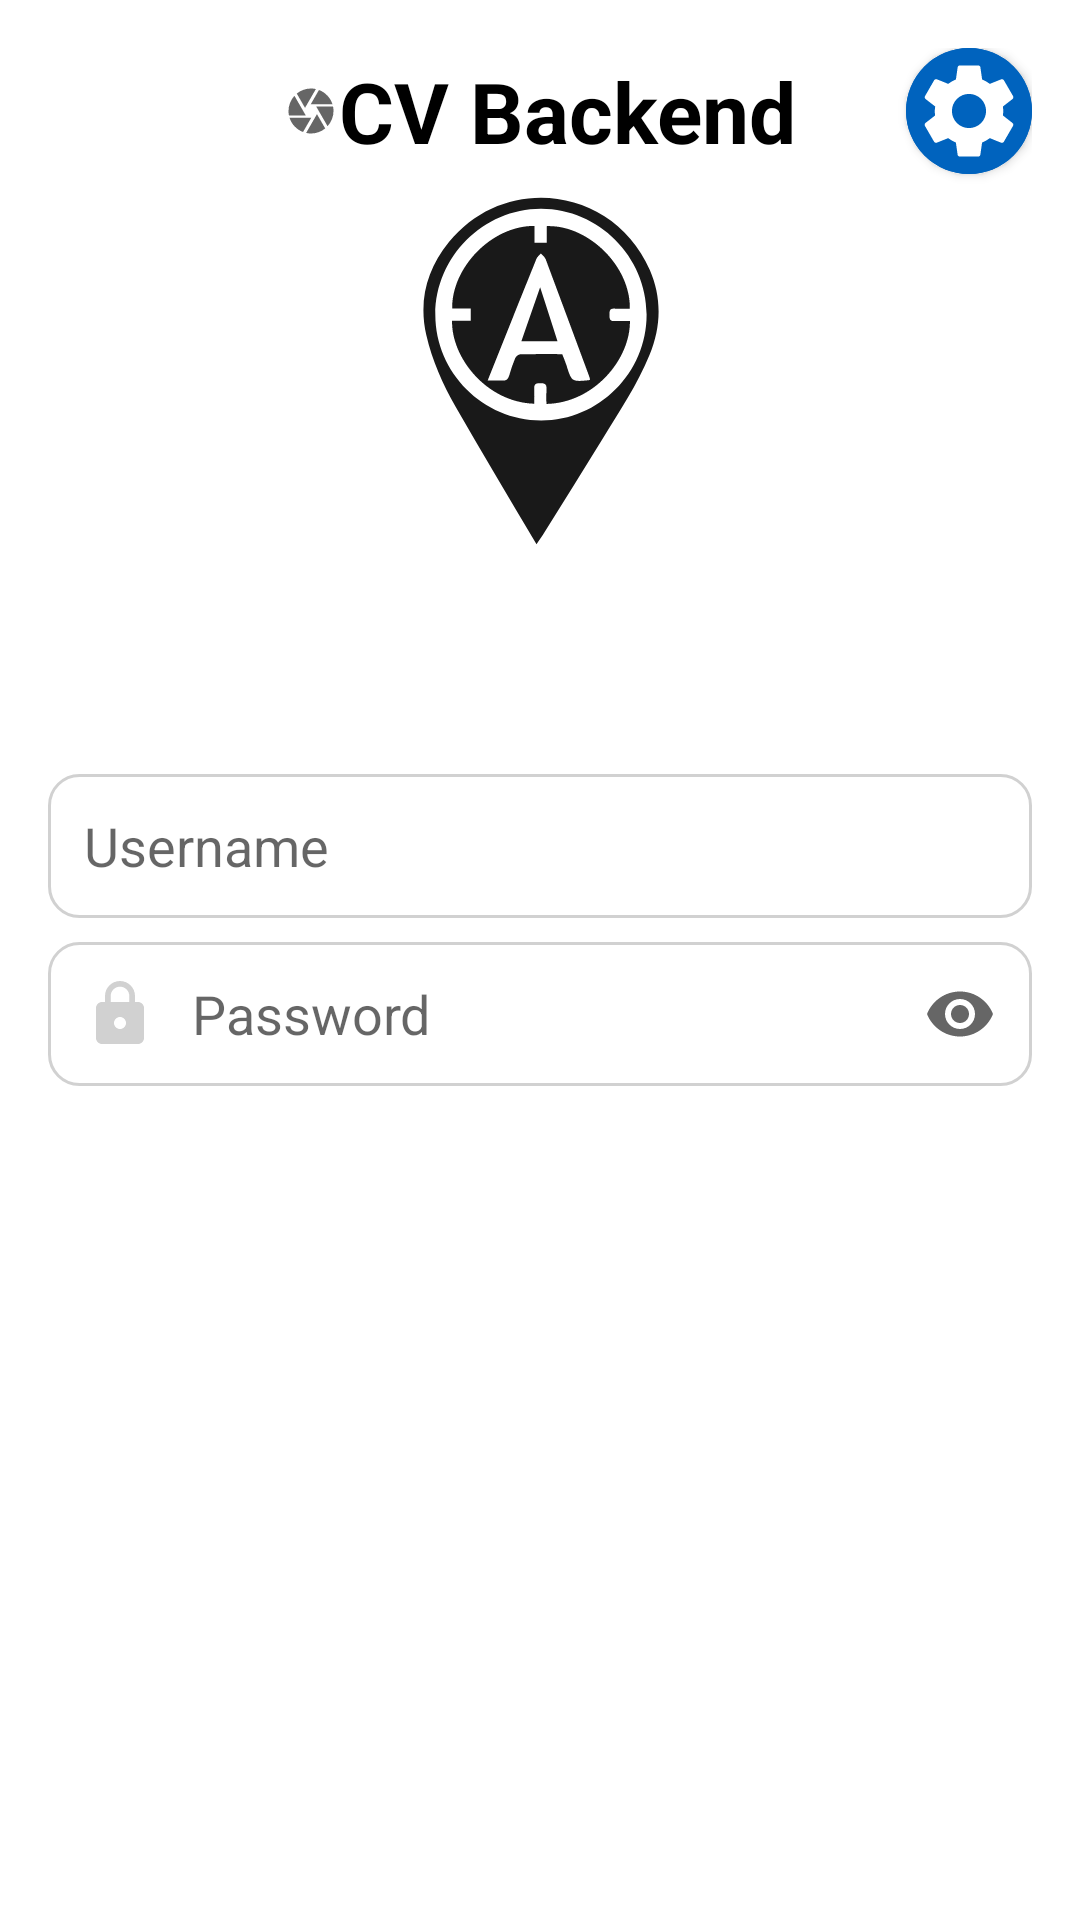

Icon click points for this 1080 × 1920 phone screenshot, format [x,y]:
settings: [969,111]
